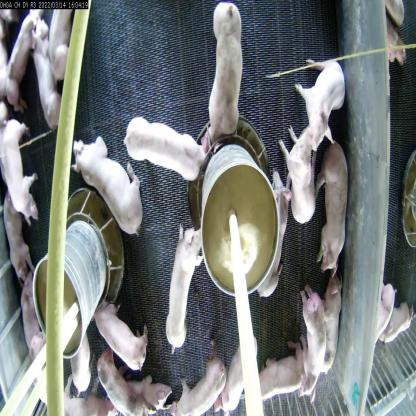Pig: (64, 124, 148, 238), (204, 7, 249, 140), (120, 119, 204, 189), (291, 36, 346, 139), (166, 221, 206, 359), (91, 286, 157, 368), (318, 146, 354, 272), (0, 125, 42, 226), (280, 121, 319, 224), (28, 26, 65, 131), (165, 361, 228, 416), (300, 298, 332, 394), (91, 365, 151, 416), (252, 356, 308, 408), (320, 284, 350, 378), (220, 346, 260, 415)
